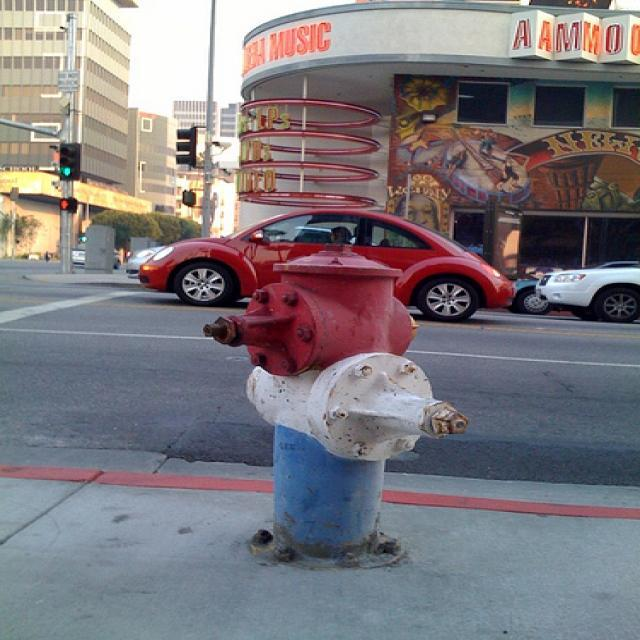fire_hydrant: (196, 245, 468, 574)
